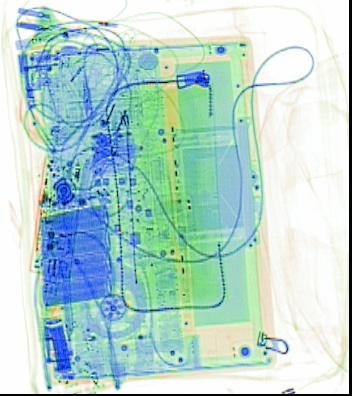powerbank: (37, 202, 114, 308)
